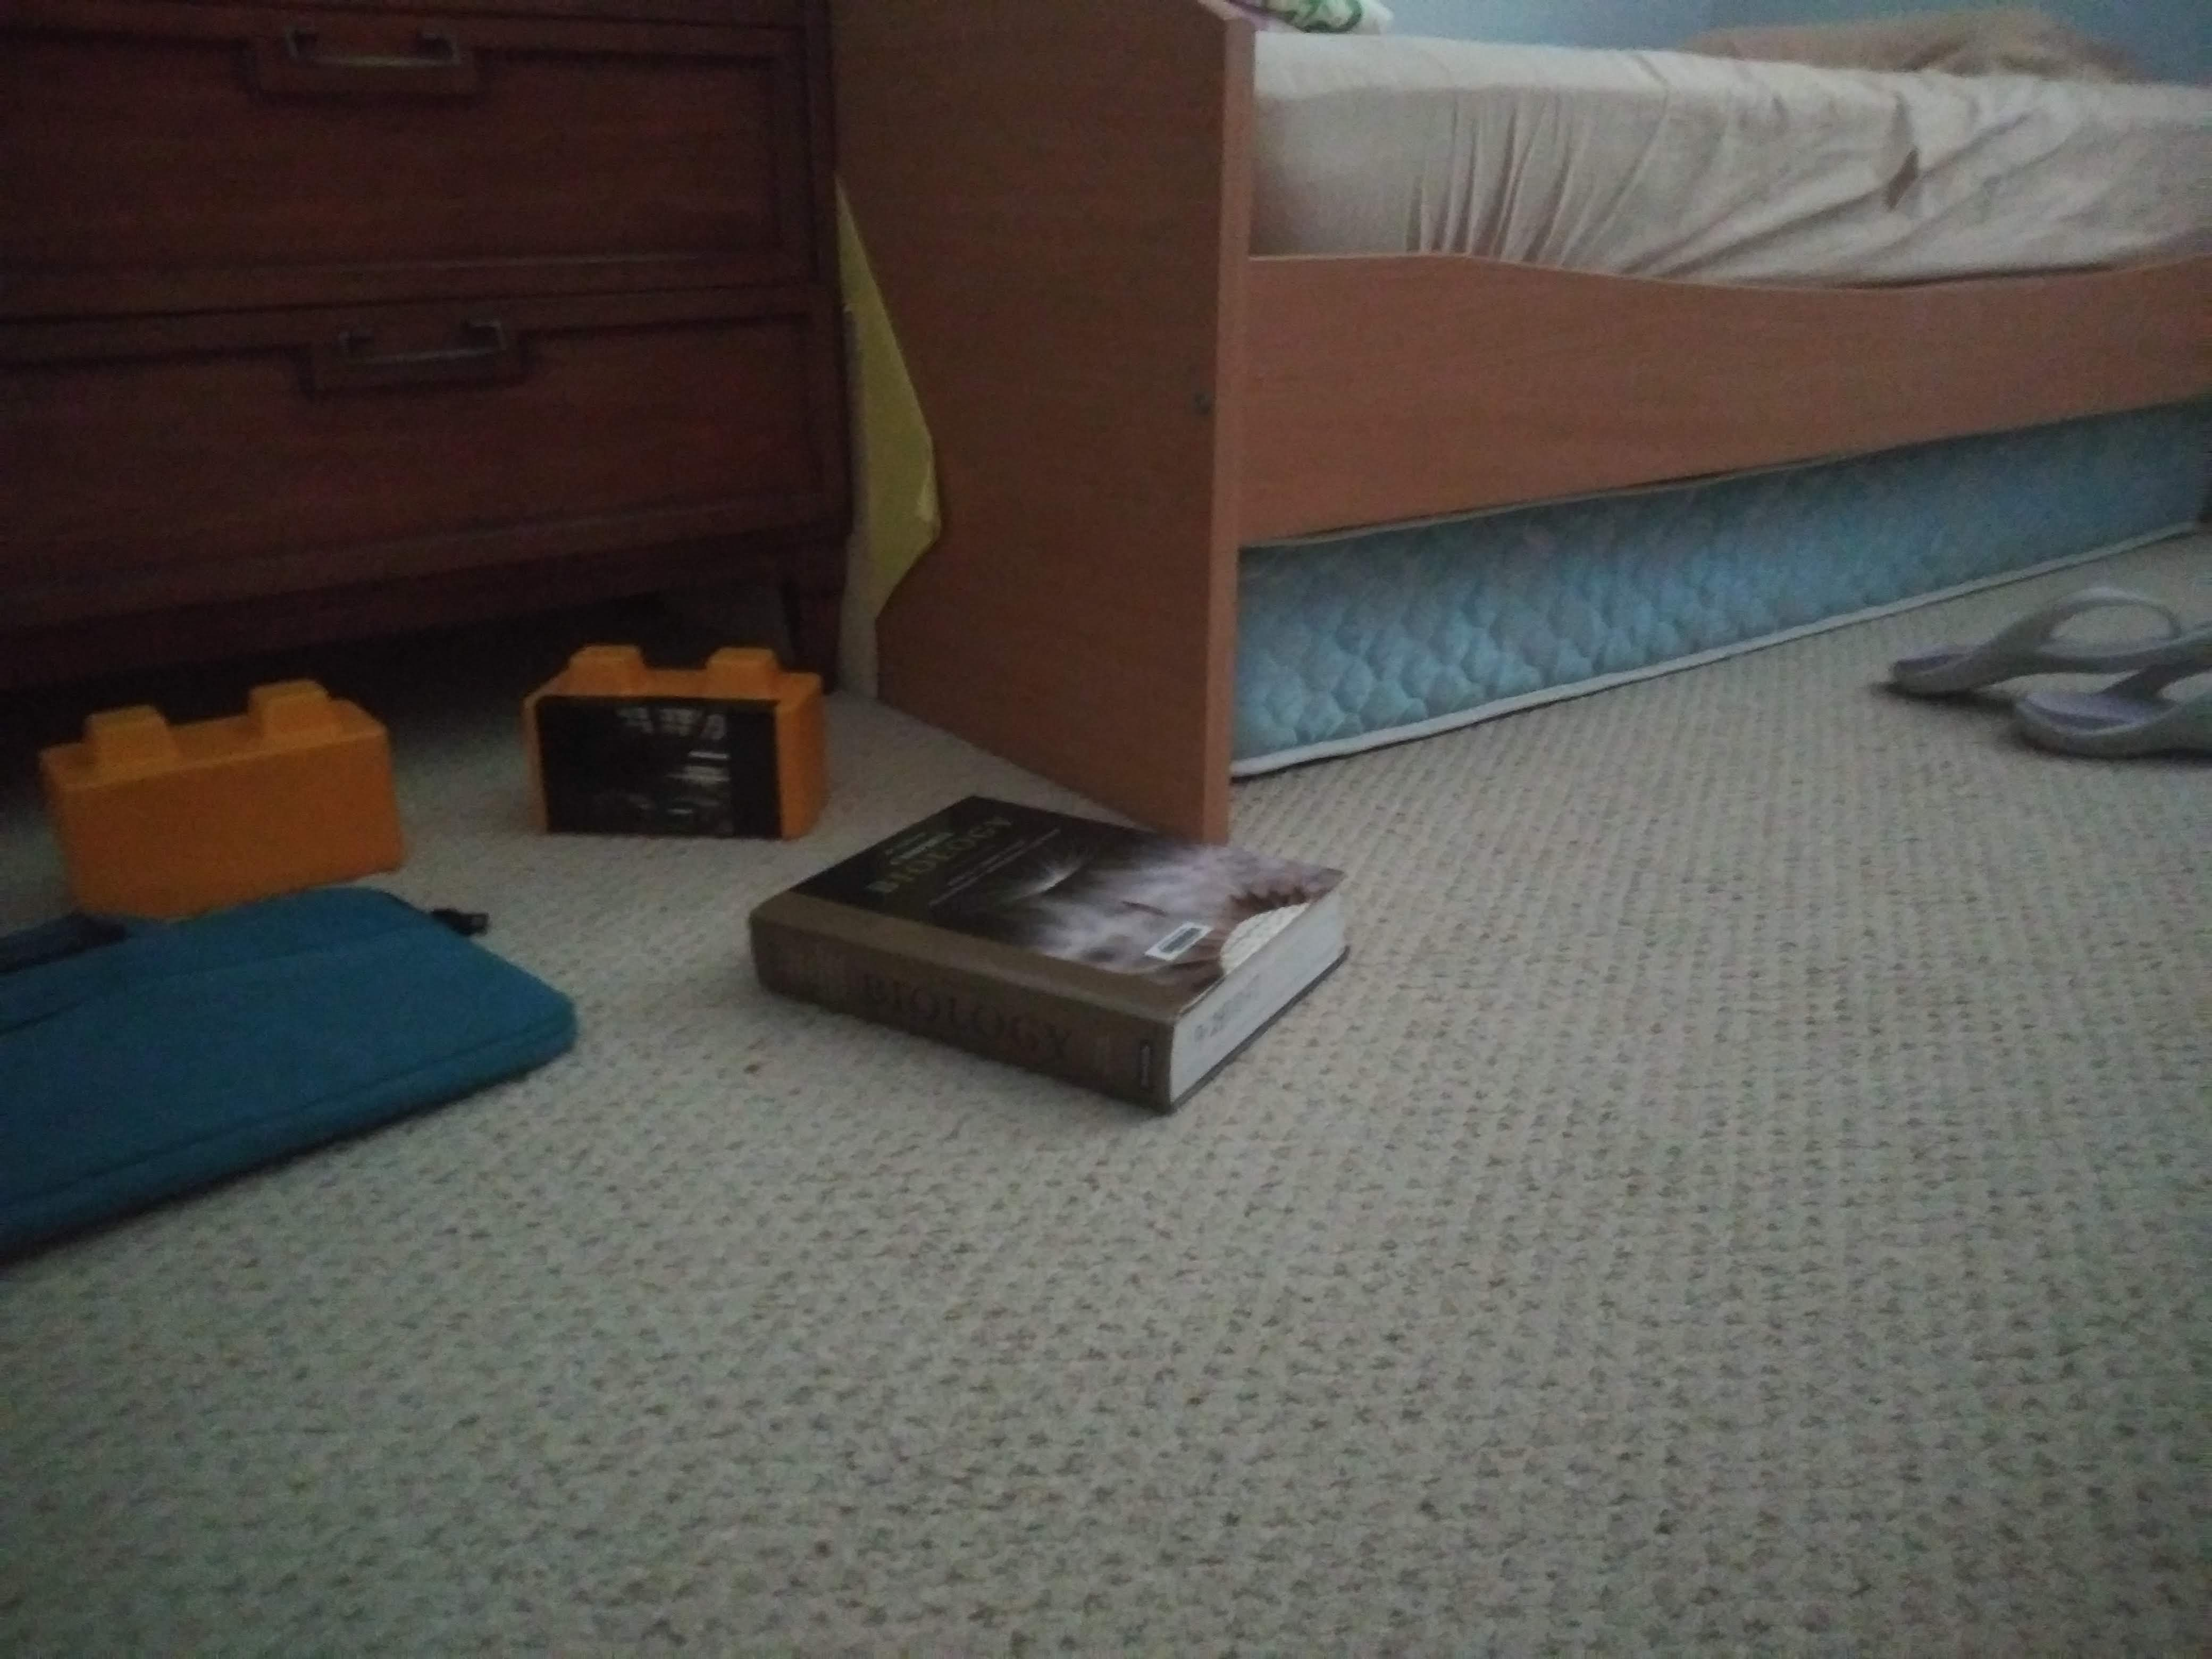skystone: (524, 662, 826, 838)
stone: (49, 713, 401, 904)
